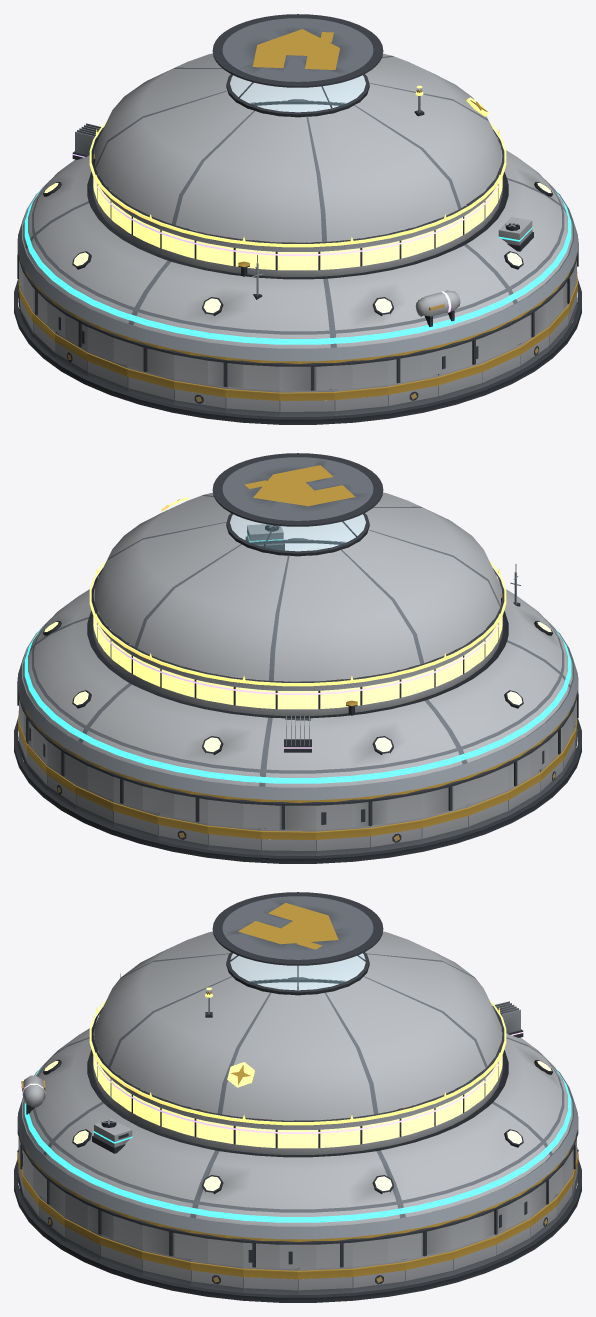
File: habitat_xl_far.glb
The picture shows the model from 3 angles, top to bottom: view 1: azimuth 30°, elevation 25°; view 2: azimuth 150°, elevation 25°; view 3: azimuth 270°, elevation 25°; orthographic projection.
Parts seen in each view (by area): view 1: Roof, Base, L2, L3, L4, L5; view 2: Roof, Base, L2, L3, L5, L4; view 3: Roof, Base, L2, L3, L5, L4.
Boxes of the visible parts, x1,y1,x2,y2 form: Roof: [17, 14, 578, 390]; Base: [14, 186, 581, 424]; L2: [18, 180, 577, 361]; L3: [24, 189, 571, 344]; L4: [72, 123, 501, 326]; L5: [89, 85, 506, 247]; Roof: [17, 453, 578, 829]; Base: [14, 625, 581, 863]; L2: [18, 564, 577, 800]; L3: [24, 524, 571, 783]; L5: [89, 497, 506, 686]; L4: [94, 617, 501, 752]; Roof: [17, 892, 578, 1268]; Base: [14, 1069, 581, 1302]; L2: [18, 973, 577, 1239]; L3: [24, 1067, 571, 1222]; L5: [89, 987, 506, 1125]; L4: [21, 1001, 523, 1133].
Bounding box in the file's own units: 25.25 × 12.5 × 25.25.
